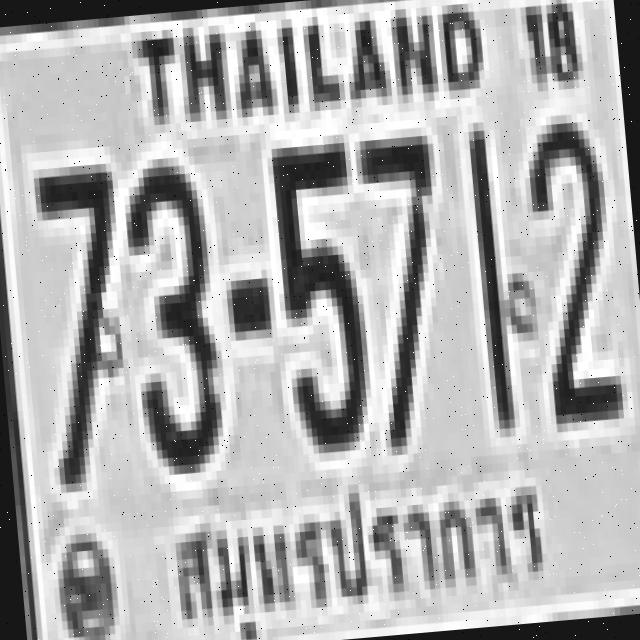1: (464, 121, 512, 429)
2: (520, 116, 618, 420)
3: (118, 155, 222, 468)
5: (266, 134, 370, 446)
7: (28, 163, 132, 484), (354, 126, 454, 448)
SamutPrakan: (165, 457, 559, 640)
